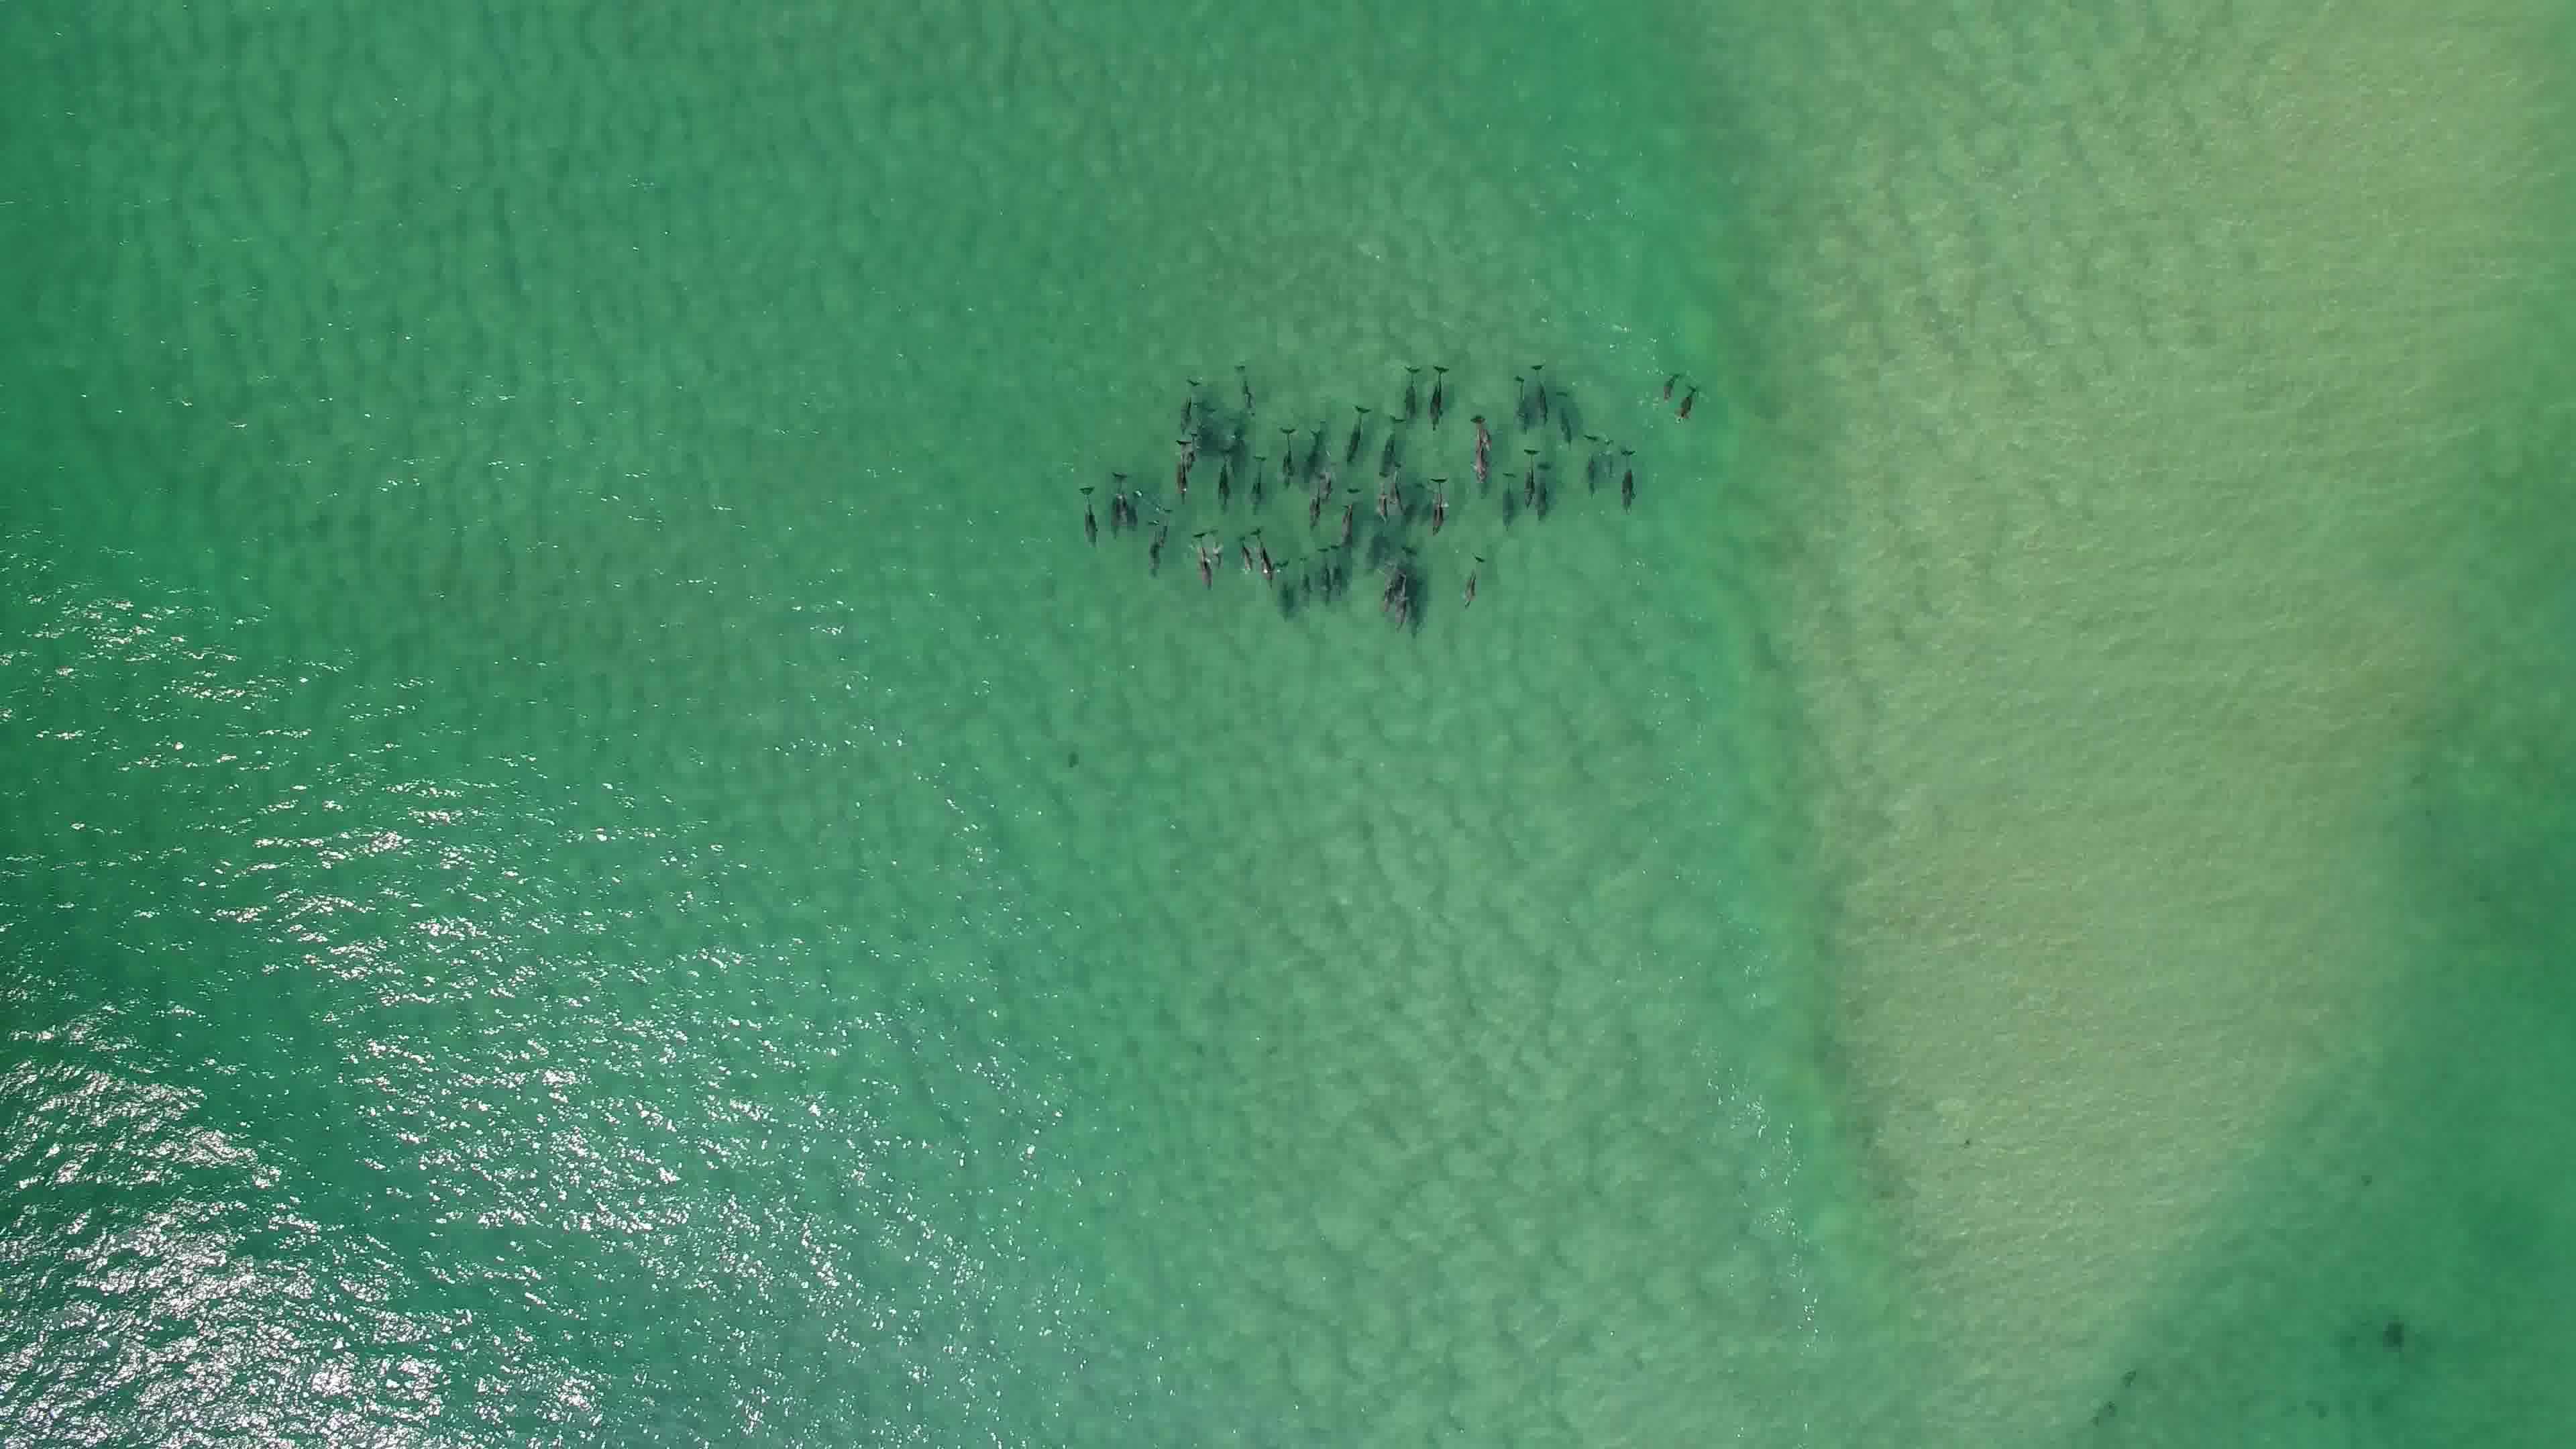dolphin: (1380, 540, 1424, 633), (1493, 458, 1537, 543), (1454, 541, 1493, 626), (1063, 478, 1106, 550), (1166, 428, 1207, 502), (1582, 421, 1617, 506), (1187, 525, 1228, 598), (1221, 354, 1263, 423), (1610, 435, 1644, 522), (1139, 499, 1175, 580), (1106, 446, 1134, 547), (1467, 409, 1495, 501), (1270, 414, 1304, 490), (1246, 520, 1279, 594), (1422, 467, 1454, 545), (1341, 400, 1371, 479), (1166, 366, 1203, 430), (1265, 552, 1299, 621), (1394, 352, 1424, 428), (1532, 354, 1560, 430), (1309, 538, 1343, 602), (1668, 379, 1707, 433), (1422, 357, 1451, 432), (1536, 448, 1560, 527), (1332, 479, 1361, 548), (1247, 446, 1272, 522), (1553, 380, 1576, 462), (1504, 361, 1532, 426), (1378, 402, 1399, 483), (1518, 441, 1539, 517), (1290, 548, 1316, 609), (1201, 518, 1231, 568), (1652, 366, 1684, 409), (1230, 527, 1256, 577)
